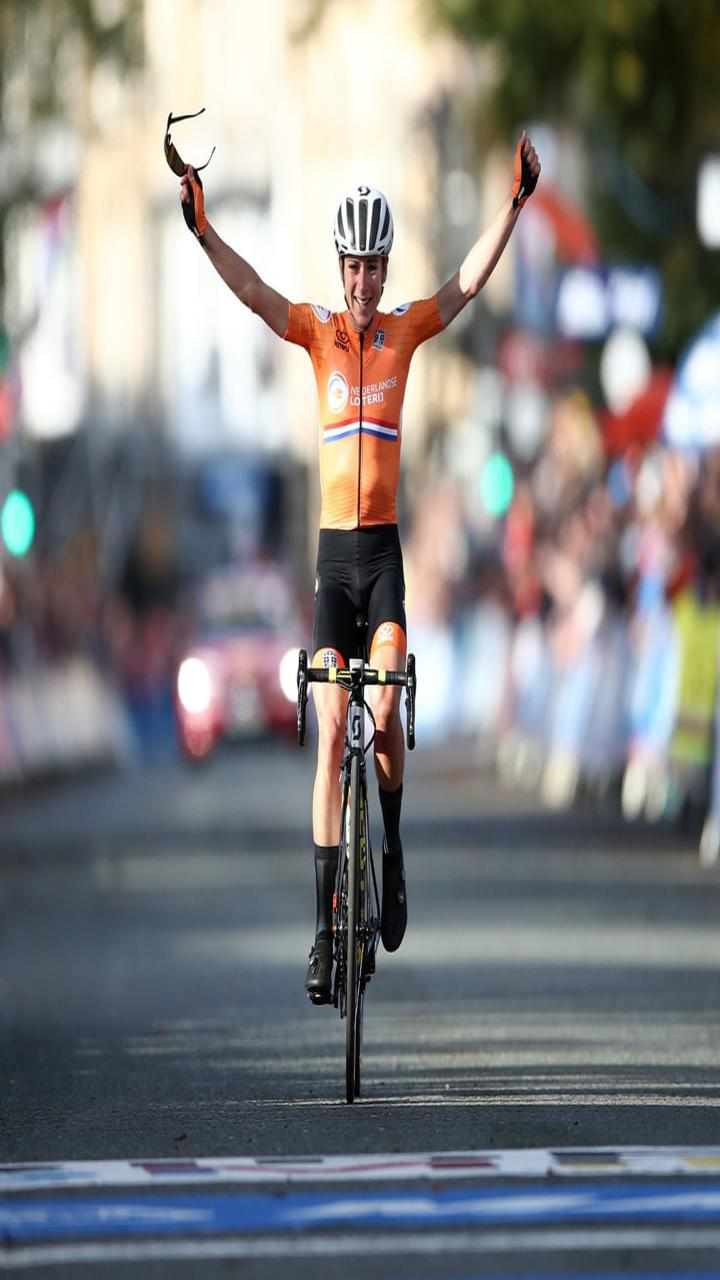bicycle: (263, 632, 422, 1127)
cyclist: (132, 59, 551, 1005)
